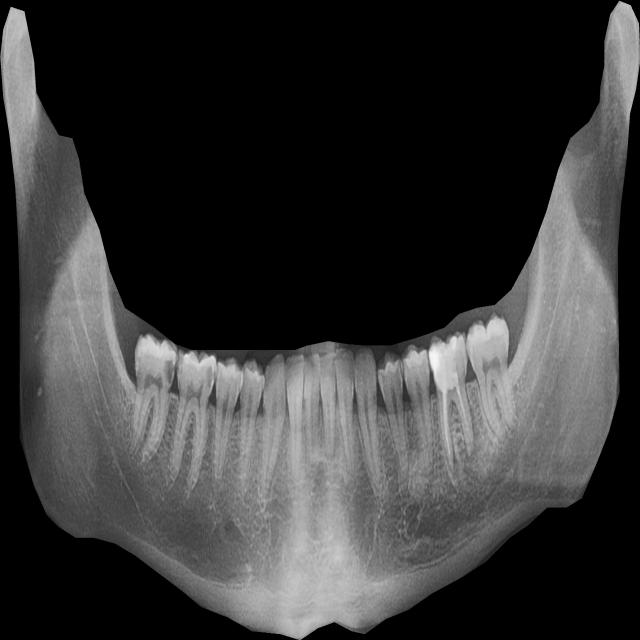mandibula: (0, 1, 640, 640)
